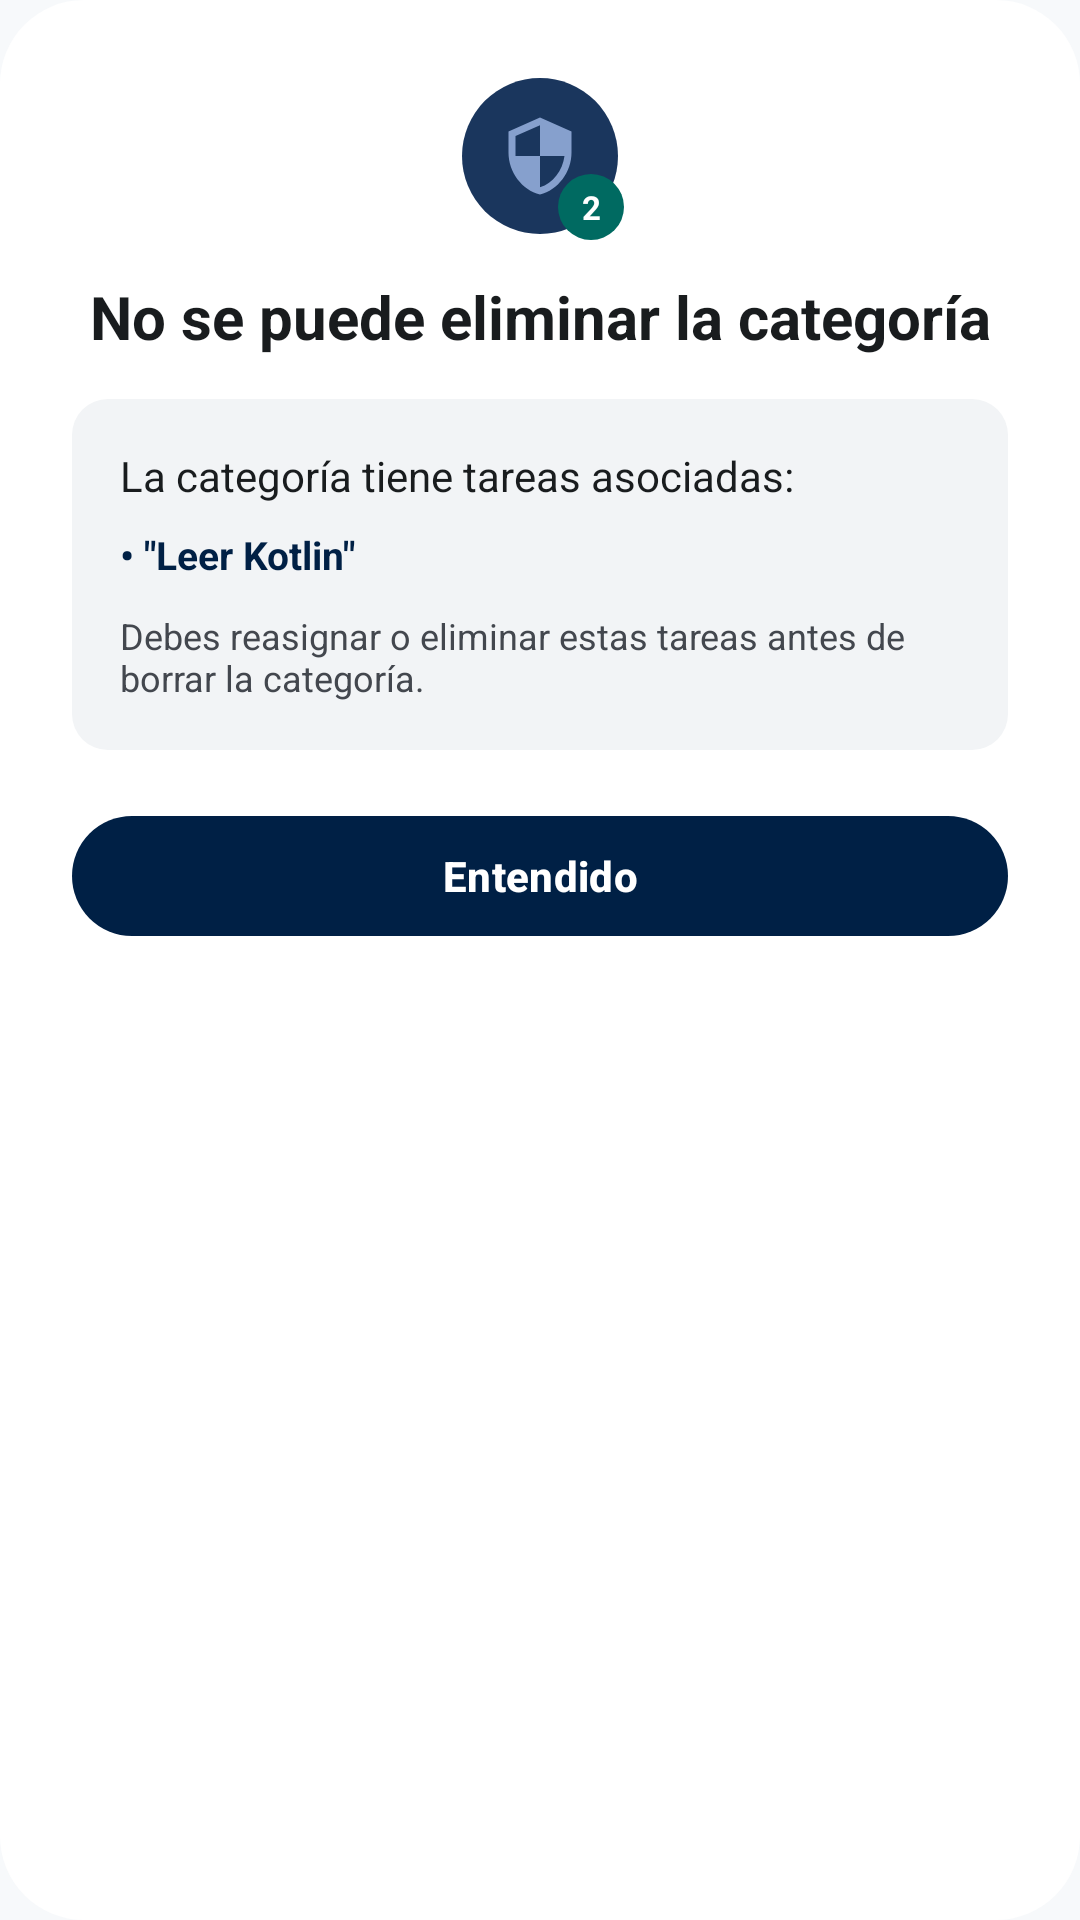

Icon click points for this 1080x1920 phone screenshot, format [x,y]:
shield: [540,156]
